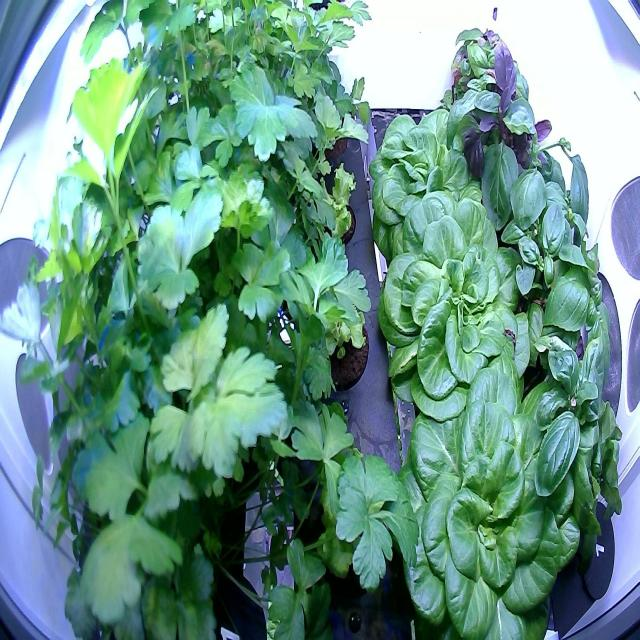Ready: (383, 350, 583, 640), (372, 183, 540, 424), (366, 102, 498, 264)
